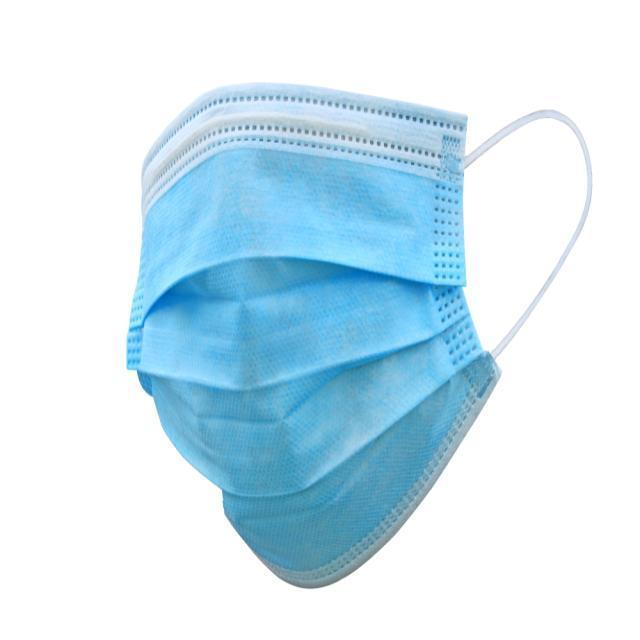Mask: (125, 77, 594, 591)
